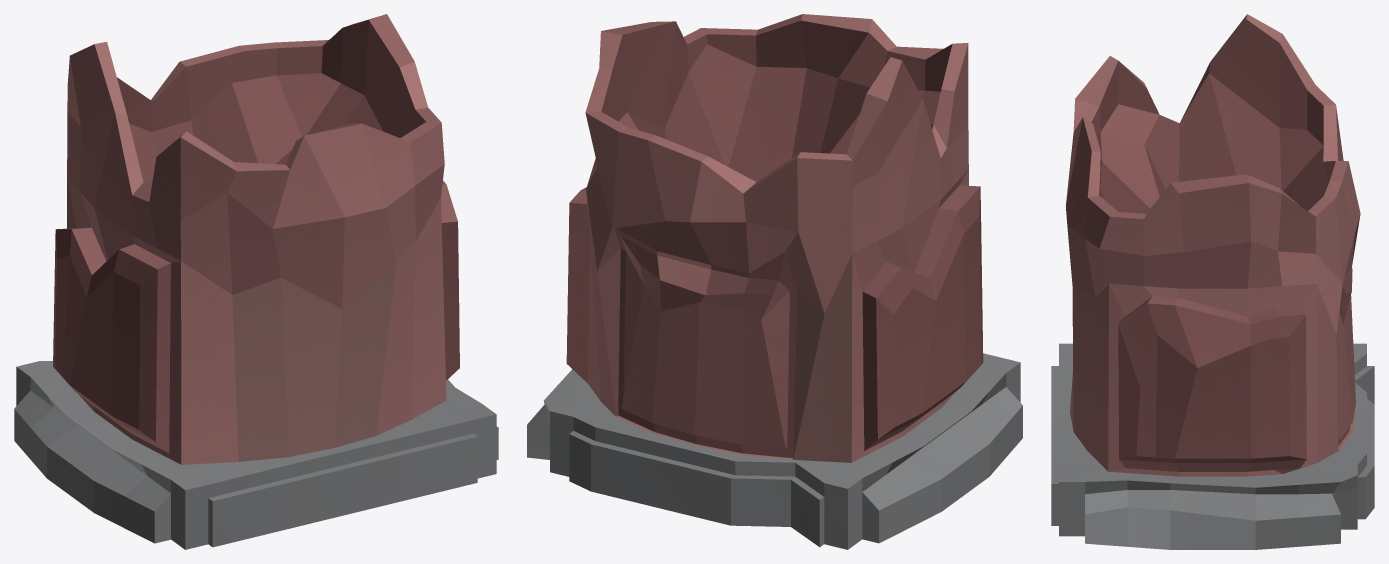
Rendered from gas_pump_D_destroyed.glb.
3 views of the same model, side by side, from view 1: azimuth 30°, elevation 25°; view 2: azimuth 150°, elevation 25°; view 3: azimuth 270°, elevation 25° (orthographic). The views are drawn at different scales.
Parts seen in each view (by area): view 1: gas_pump_D_destroyed; view 2: gas_pump_D_destroyed; view 3: gas_pump_D_destroyed.
Boxes of the visible parts, x1=… form: gas_pump_D_destroyed: x1=14, y1=14, x2=498, y2=549; gas_pump_D_destroyed: x1=527, y1=14, x2=1022, y2=549; gas_pump_D_destroyed: x1=1051, y1=14, x2=1374, y2=549.
Size of the model in its own units: 0.9162 by 1 by 0.7562.
Materials: 1 (1 with a texture image).
